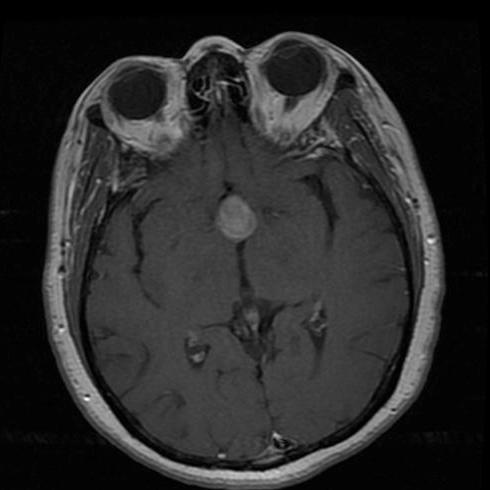Tumour-Pituitary: (213, 196, 263, 246)
